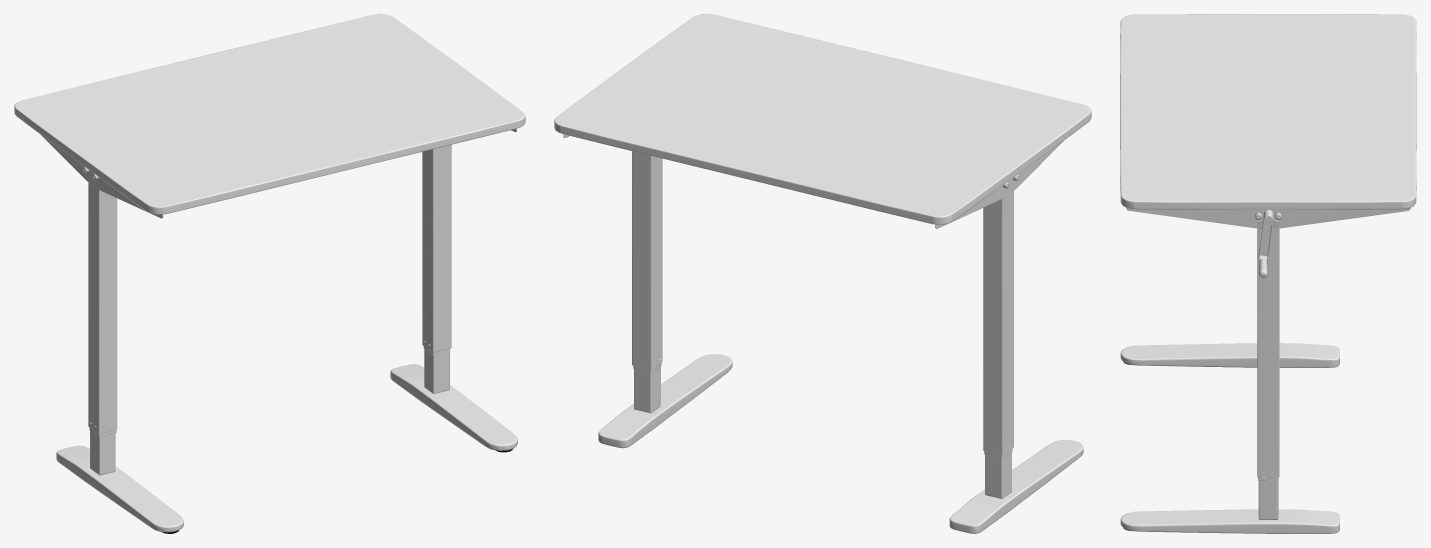
Rendered from relatera_biurko_do_pracy_na_siedzaco_stojaco_49552863.glb.
The picture shows the model from 3 angles, left to right: view 1: azimuth 30°, elevation 25°; view 2: azimuth 150°, elevation 25°; view 3: azimuth 270°, elevation 25°; orthographic projection. The views are drawn at different scales.
Parts seen in each view (by area): view 1: relatera_biurko_do_pracy_na_siedzaco_stojaco_49552863; view 2: relatera_biurko_do_pracy_na_siedzaco_stojaco_49552863; view 3: relatera_biurko_do_pracy_na_siedzaco_stojaco_49552863.
Part boxes in pixels (x1,y1,x2,y2): relatera_biurko_do_pracy_na_siedzaco_stojaco_49552863: [14, 14, 525, 533]; relatera_biurko_do_pracy_na_siedzaco_stojaco_49552863: [554, 14, 1091, 533]; relatera_biurko_do_pracy_na_siedzaco_stojaco_49552863: [1120, 14, 1416, 533].
Bounding box in the file's own units: 0.9788 × 0.7498 × 0.6001.
Materials: 1 (1 with a texture image).
